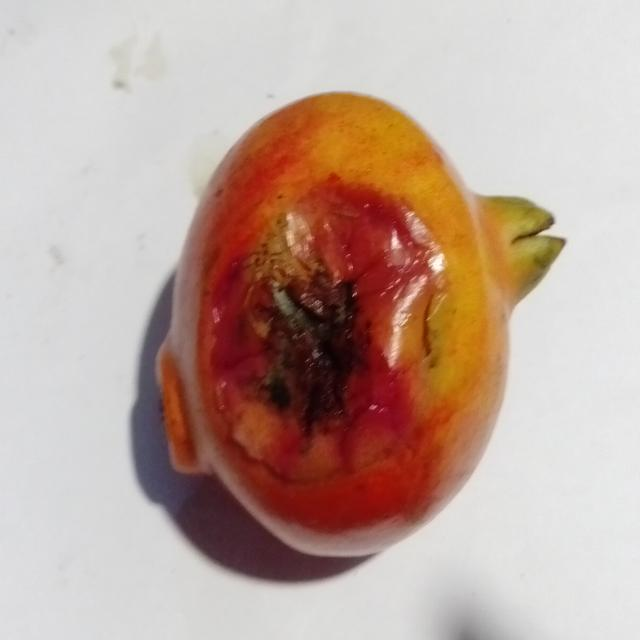Rotten: (154, 86, 566, 564)
